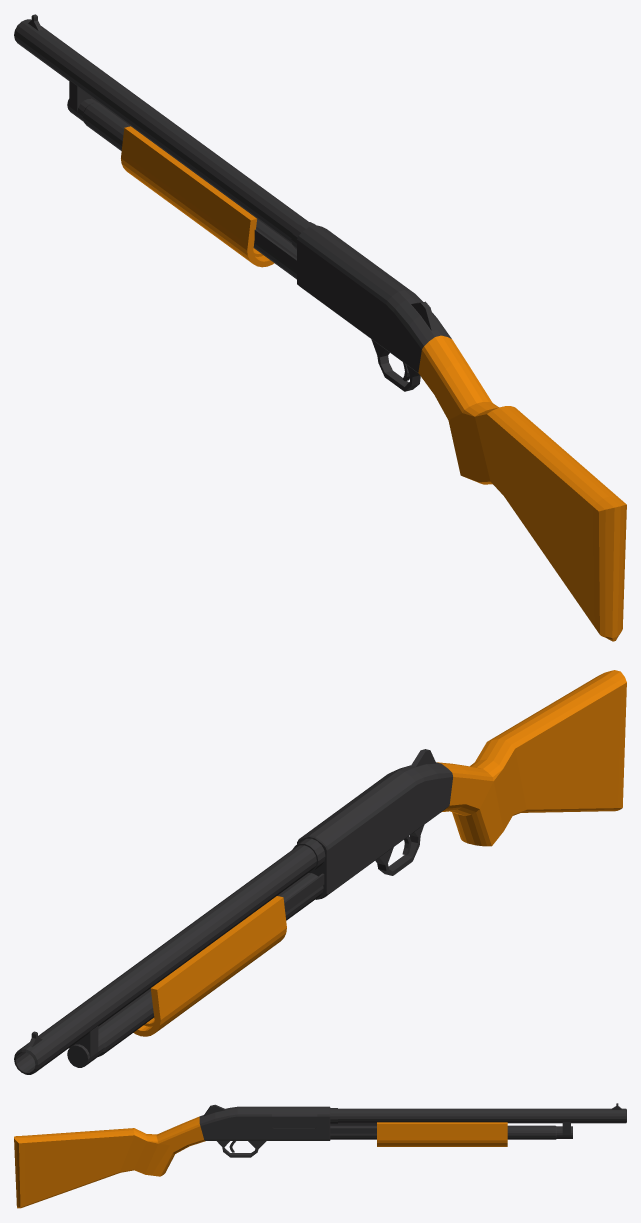
File: Mossberg-2.glb
3 views of the same model, one above another, from view 1: azimuth 30°, elevation 25°; view 2: azimuth 150°, elevation 25°; view 3: azimuth 270°, elevation 25° (orthographic). The views are drawn at different scales.
Parts seen in each view (by area): view 1: Cube, Cube.001, Cube.006; view 2: Cube, Cube.001, Cube.006; view 3: Cube, Cube.001, Cube.006, Cube.003.
Boxes of the visible parts, bbox=[...] form: Cube: bbox=[14, 14, 451, 391]; Cube.001: bbox=[418, 335, 626, 641]; Cube.006: bbox=[121, 126, 274, 267]; Cube: bbox=[14, 749, 452, 1074]; Cube.001: bbox=[437, 670, 626, 846]; Cube.006: bbox=[133, 896, 286, 1036]; Cube: bbox=[199, 1103, 626, 1157]; Cube.001: bbox=[14, 1116, 205, 1208]; Cube.006: bbox=[377, 1122, 507, 1146]; Cube.003: bbox=[272, 1114, 376, 1133].
Size of the model in its own units: 0.384 by 1.85 by 9.86.
